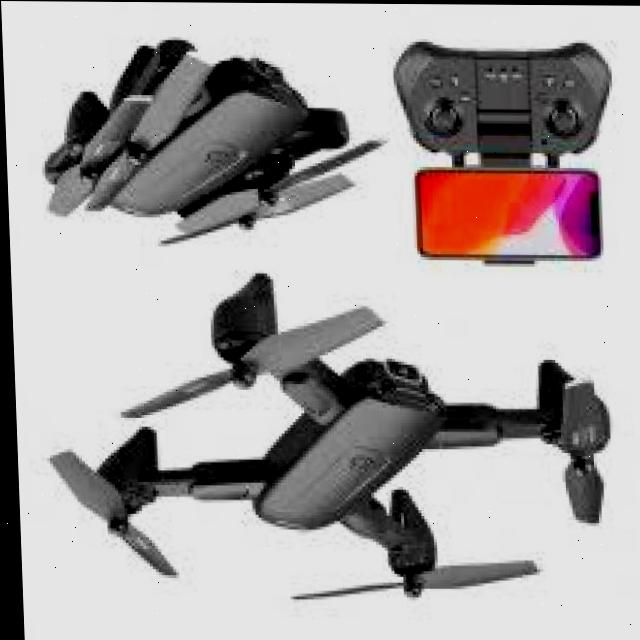drone: (36, 269, 640, 613)
